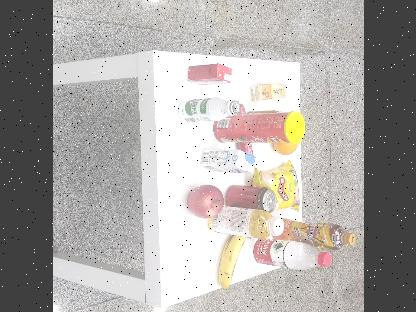Can: (222, 186, 278, 209)
Others: (209, 109, 306, 146), (196, 148, 262, 176), (183, 60, 235, 90)
Plastic Bottle: (244, 238, 332, 270)
